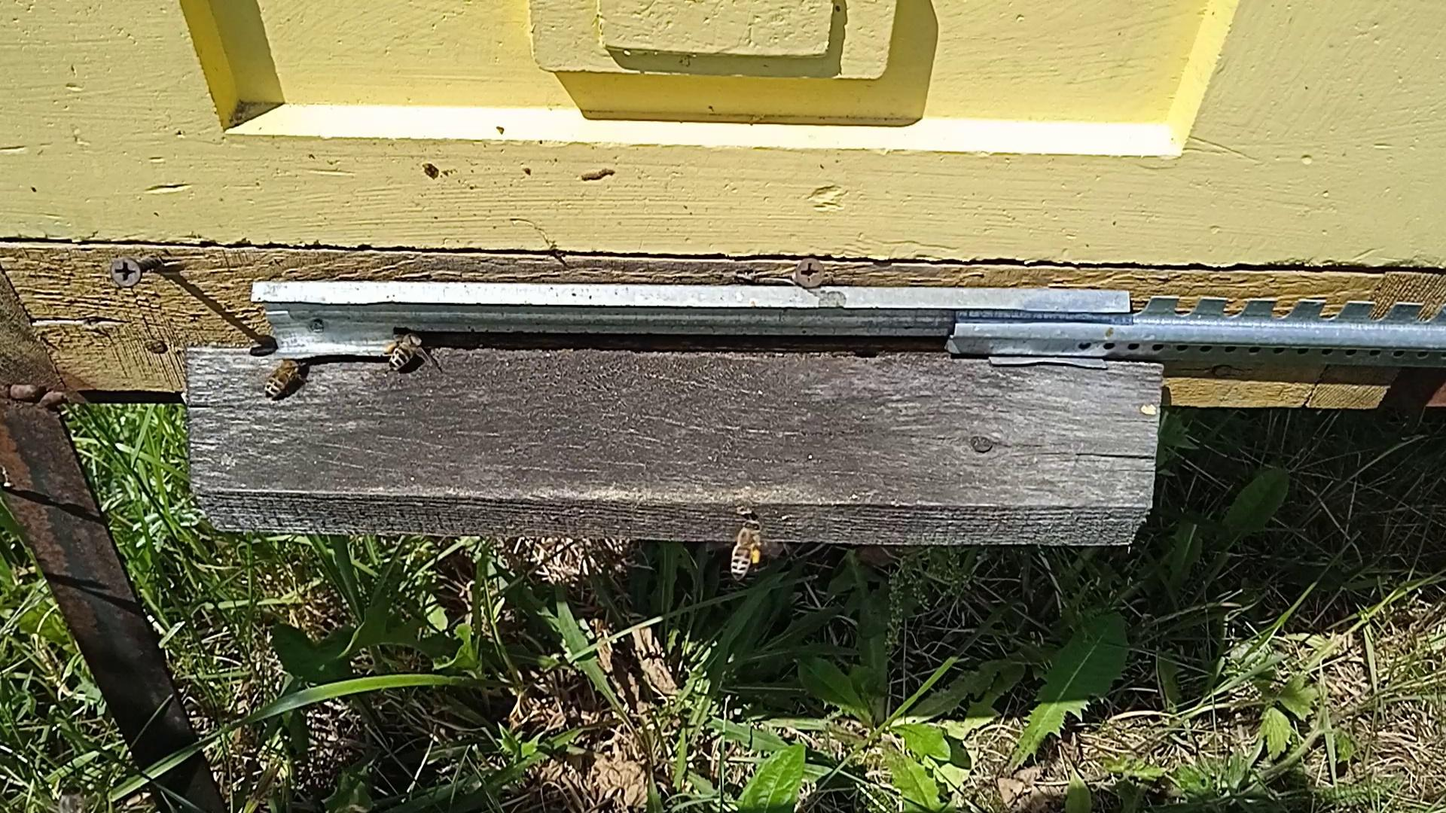worker-bee: (728, 516, 764, 580), (263, 357, 303, 399), (386, 330, 426, 370), (58, 785, 85, 813)
